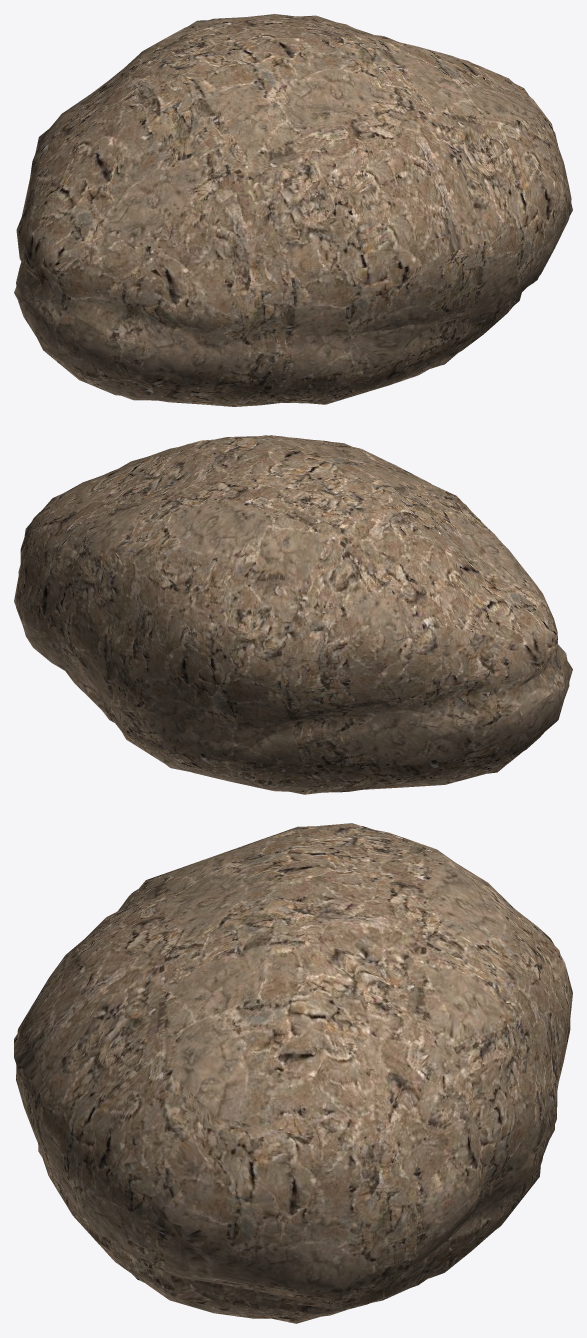
Rendered from rock-1.glb.
3 views of the same model, one above another, from view 1: azimuth 30°, elevation 25°; view 2: azimuth 150°, elevation 25°; view 3: azimuth 270°, elevation 25° (orthographic). The views are drawn at different scales.
Parts seen in each view (by area): view 1: rock, rock_far; view 2: rock, rock_far; view 3: rock, rock_far.
Boxes of the visible parts, <box> form: rock: <box>16,14,571,406</box>; rock_far: <box>14,15,572,403</box>; rock: <box>16,435,569,792</box>; rock_far: <box>14,435,572,794</box>; rock: <box>16,823,572,1318</box>; rock_far: <box>14,826,566,1323</box>.
Size of the model in its own units: 2.01 by 1.07 by 1.51.
Materials: 1 (1 with a texture image).
